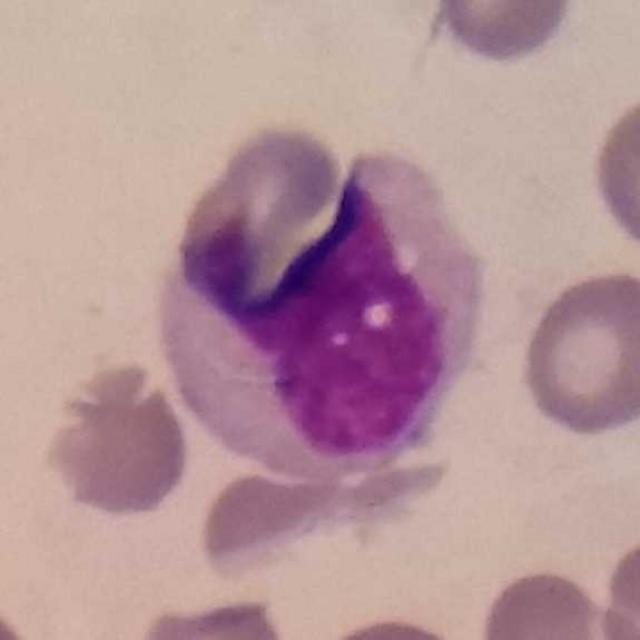Monocyte: (156, 140, 478, 472)
RBC: (161, 120, 365, 345), (190, 460, 410, 598), (39, 356, 196, 523), (514, 264, 640, 442), (473, 563, 630, 640), (423, 0, 583, 68), (585, 83, 640, 264), (127, 592, 293, 640), (594, 526, 640, 640), (306, 611, 483, 640)
